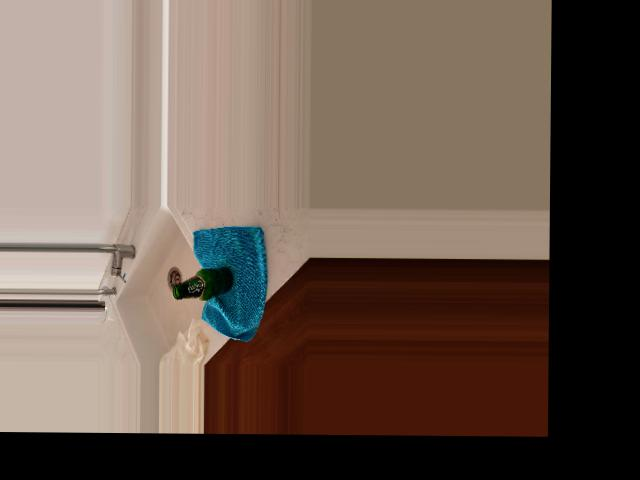beer: (173, 267, 234, 301)
